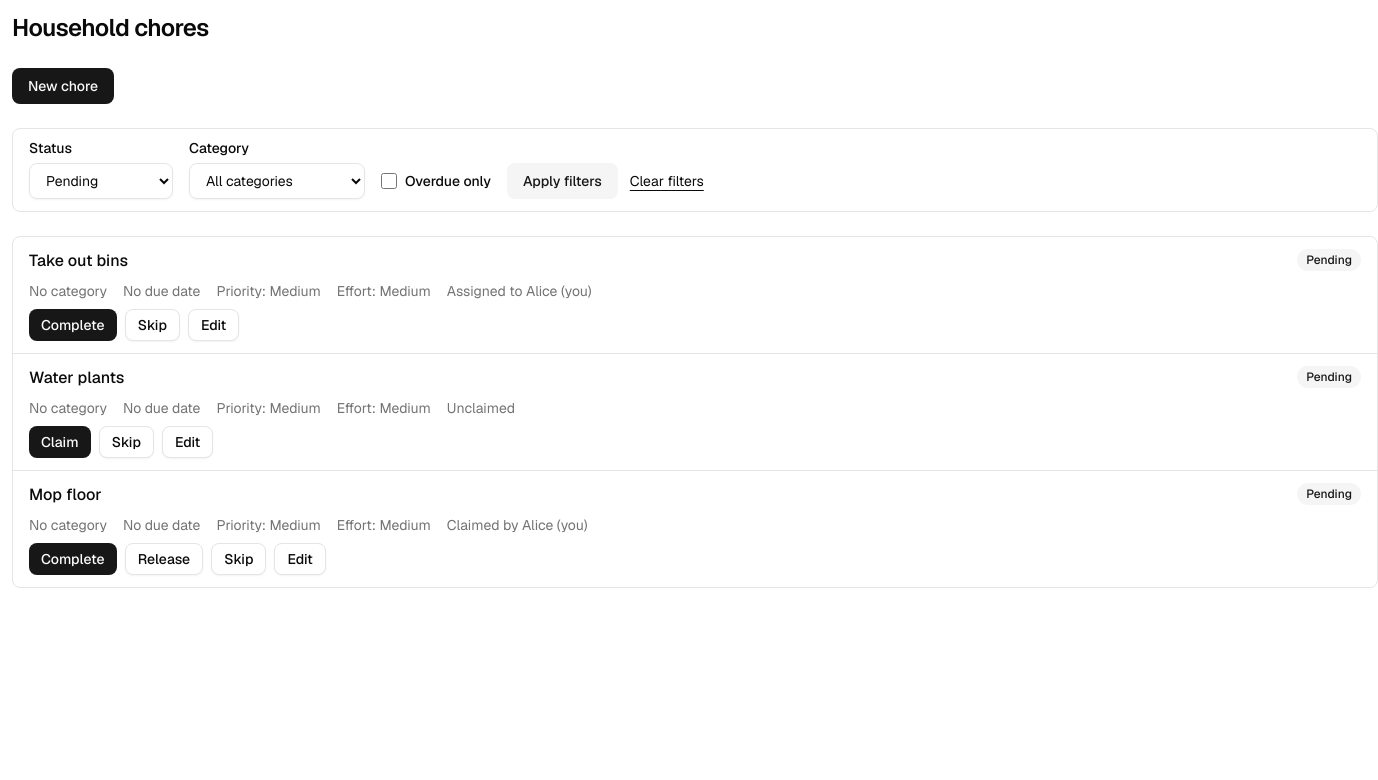
Test: /chores outcome message across server re-renders › with Claim and Release › posts only the chore id, and the row reflects the claim after the server re-render
Click the button "Claim": {"x": 60, "y": 442} [29,426,91,458]
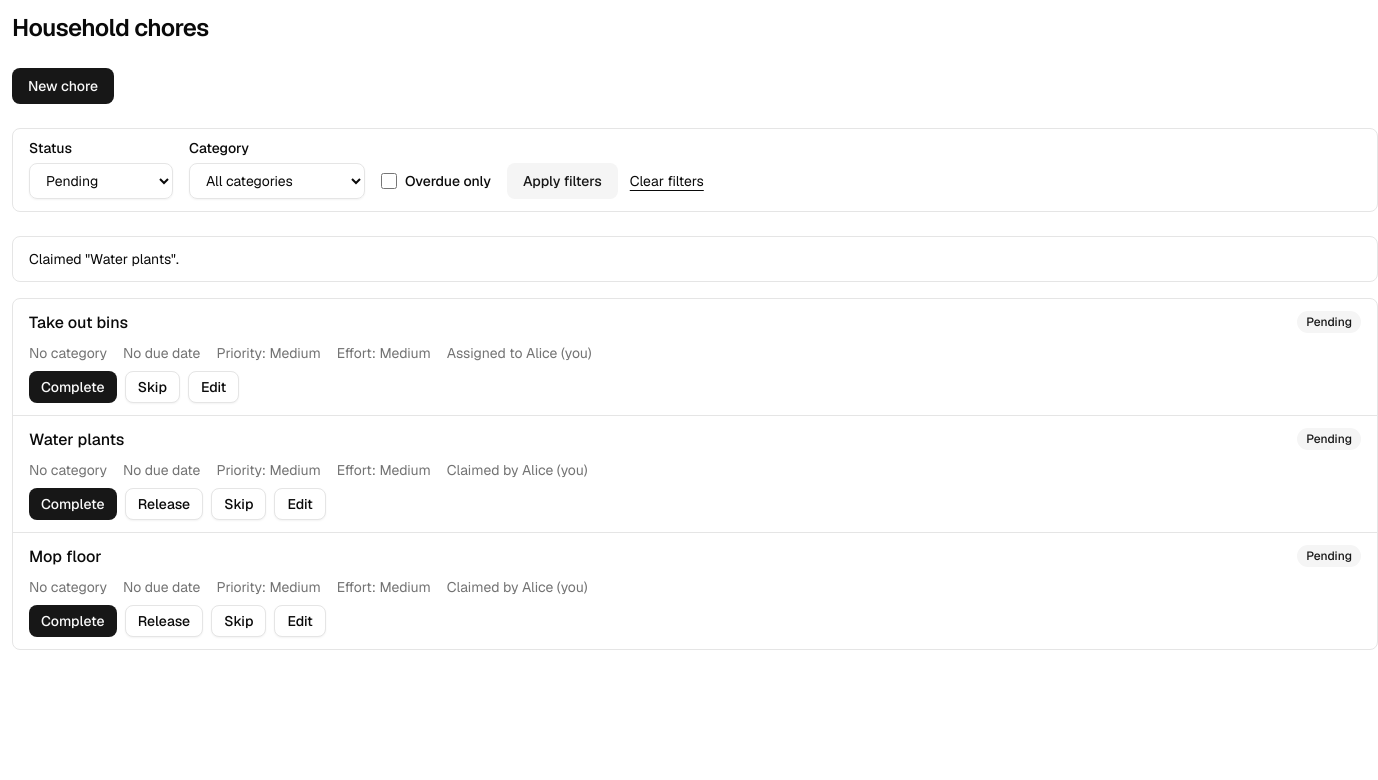
Expected: the 2nd button "Complete" is shown, [29,488,117,520]
Expected: the 1st button "Release" is shown, [125,488,203,520]
Expected: the message "Claimed \"Water plants\"." reads "Claimed \"Water plants\".", [29,250,179,268]
